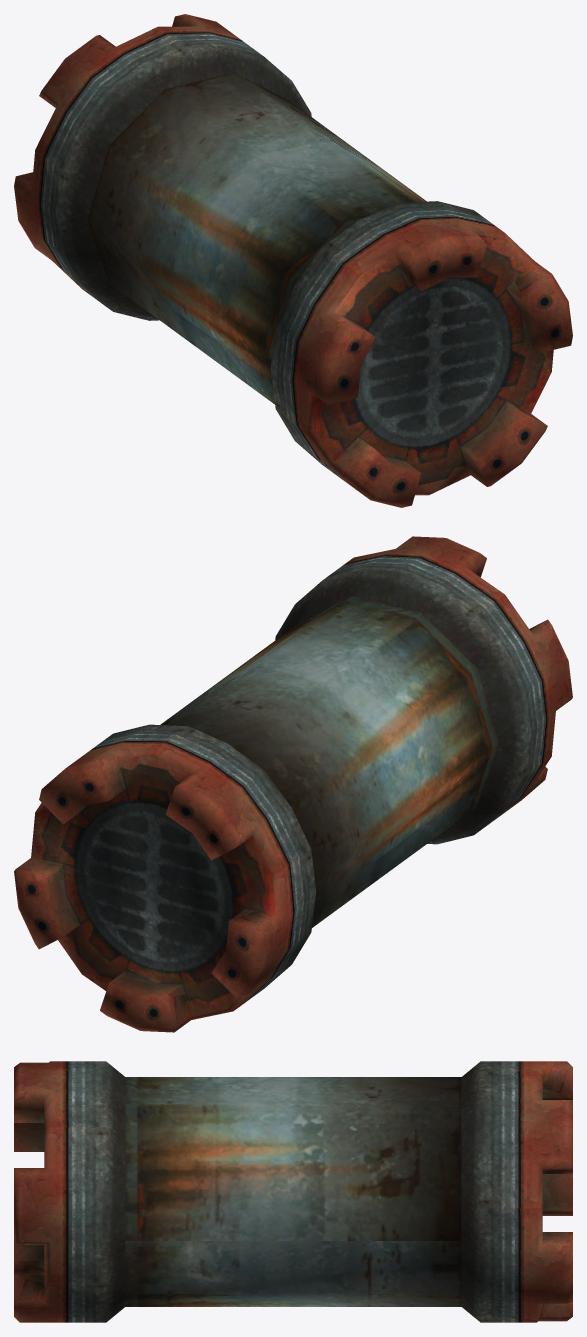
File: tau_tech_short.DAE
3 views of the same model, one above another, from view 1: azimuth 30°, elevation 25°; view 2: azimuth 150°, elevation 25°; view 3: azimuth 270°, elevation 25° (orthographic). The views are drawn at different scales.
Parts seen in each view (by area): view 1: polySurface783; view 2: polySurface783; view 3: polySurface783.
Part boxes in pixels (x1,y1,x2,y2): polySurface783: [14, 14, 572, 507]; polySurface783: [14, 536, 572, 1032]; polySurface783: [14, 1061, 572, 1322].
Size of the model in its own units: 0.4984 by 0.5035 by 1.06.
